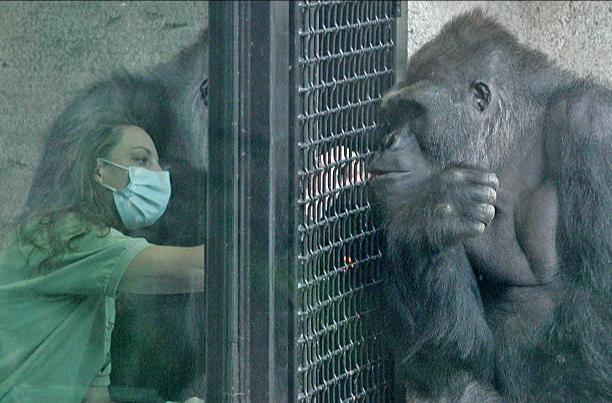gorille_Autres: (346, 0, 612, 403)
